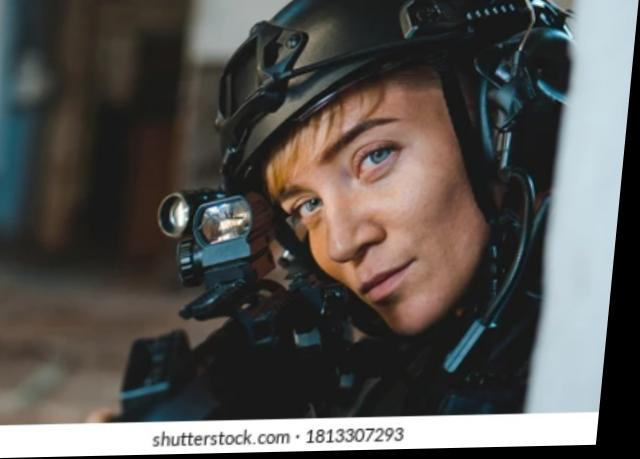other: (180, 0, 574, 419)
